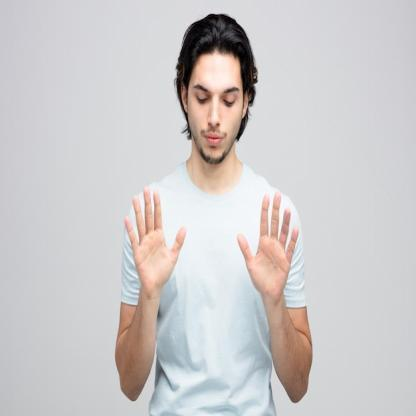stop: (235, 184, 303, 304), (120, 183, 190, 298)
